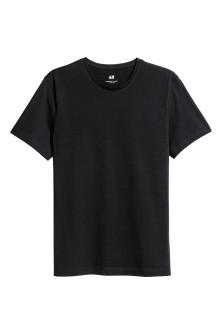teeshirt: (9, 52, 214, 300)
